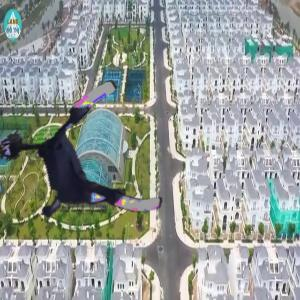drone: (13, 96, 163, 246)
